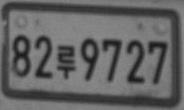2: (126, 40, 145, 83), (35, 35, 53, 78)
7: (101, 38, 122, 81), (147, 41, 167, 84)
8: (11, 34, 31, 77)
9: (80, 38, 99, 81)
루: (56, 45, 76, 79)
